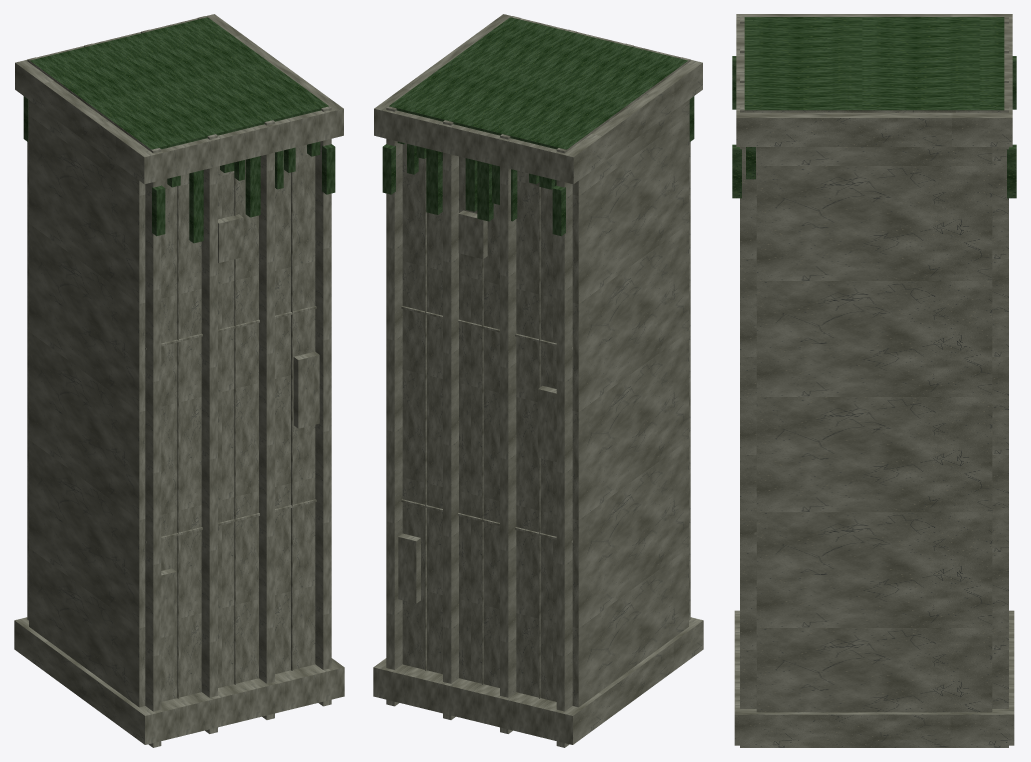
Rendered from maze_wall_collision_temp.obj.
3 views of the same model, side by side, from view 1: azimuth 30°, elevation 25°; view 2: azimuth 150°, elevation 25°; view 3: azimuth 270°, elevation 25° (orthographic). The views are drawn at different scales.
Parts seen in each view (by area): view 1: WallBody, Buttresses, Caps, MossCap, RepairPlates, PanelJoints, Moss_Front, MossPatches; view 2: WallBody, Buttresses, Caps, MossCap, RepairPlates, Moss_Back, PanelJoints, MossPatches; view 3: WallBody, MossCap, Caps, Buttresses, MossPatches.
Part boxes in pixels (x1,y1,x2,y2): WallBody: [29, 100, 315, 707]; Buttresses: [27, 16, 331, 747]; Caps: [14, 14, 344, 744]; MossCap: [30, 17, 328, 149]; RepairPlates: [161, 214, 319, 637]; PanelJoints: [145, 172, 316, 698]; Moss_Front: [167, 141, 320, 243]; MossPatches: [23, 96, 335, 236]; WallBody: [402, 100, 688, 707]; Buttresses: [386, 16, 690, 747]; Caps: [373, 14, 703, 744]; MossCap: [389, 17, 687, 149]; RepairPlates: [398, 210, 556, 603]; Moss_Back: [397, 141, 556, 221]; PanelJoints: [401, 158, 572, 698]; MossPatches: [382, 96, 694, 236]; WallBody: [756, 147, 992, 712]; MossCap: [744, 17, 1004, 110]; Caps: [734, 14, 1014, 745]; Buttresses: [740, 17, 1008, 747]; MossPatches: [732, 56, 1016, 198].
Size of what is drawn, in the model's own units: 12.55 by 35.89 by 14.5.
3 materials, 3 textured.
